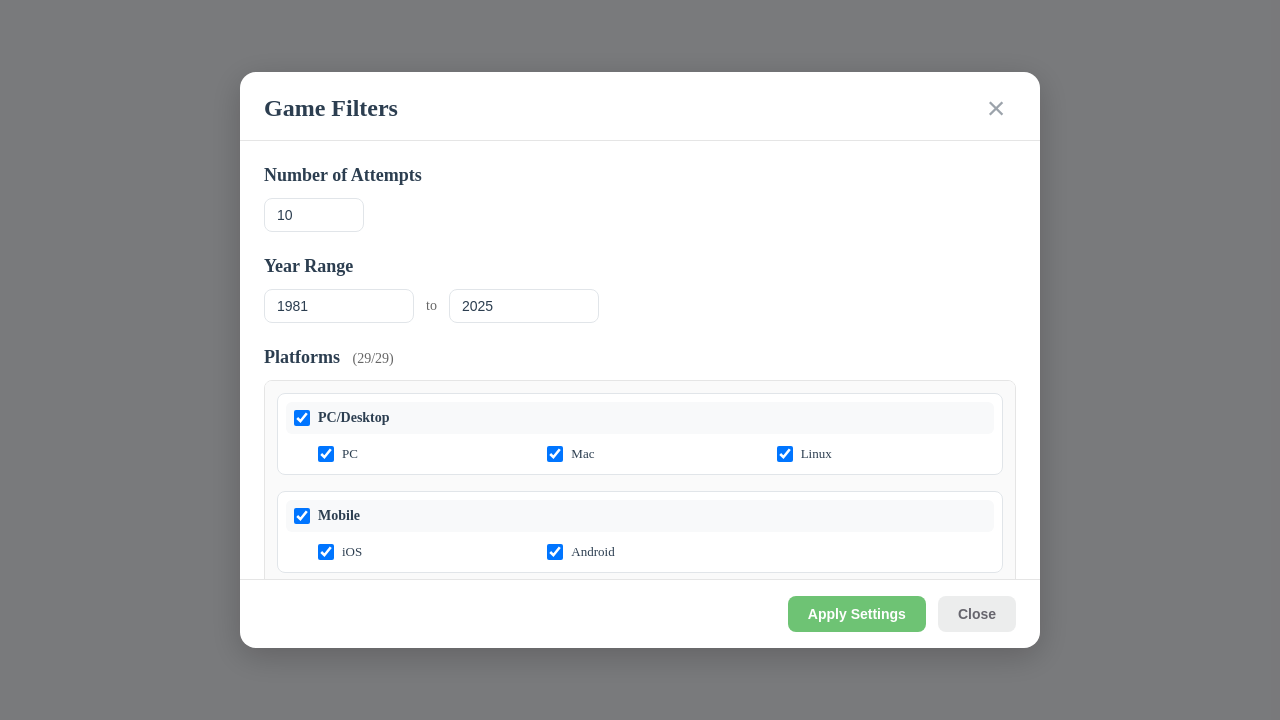
Settings.svelte › year-end blur clamps below start year to start year
The image size is (1280, 720).
Replace the text in the 1st number field with class "year-input" with "2000": coordinates (339, 306) [264,289,414,323]
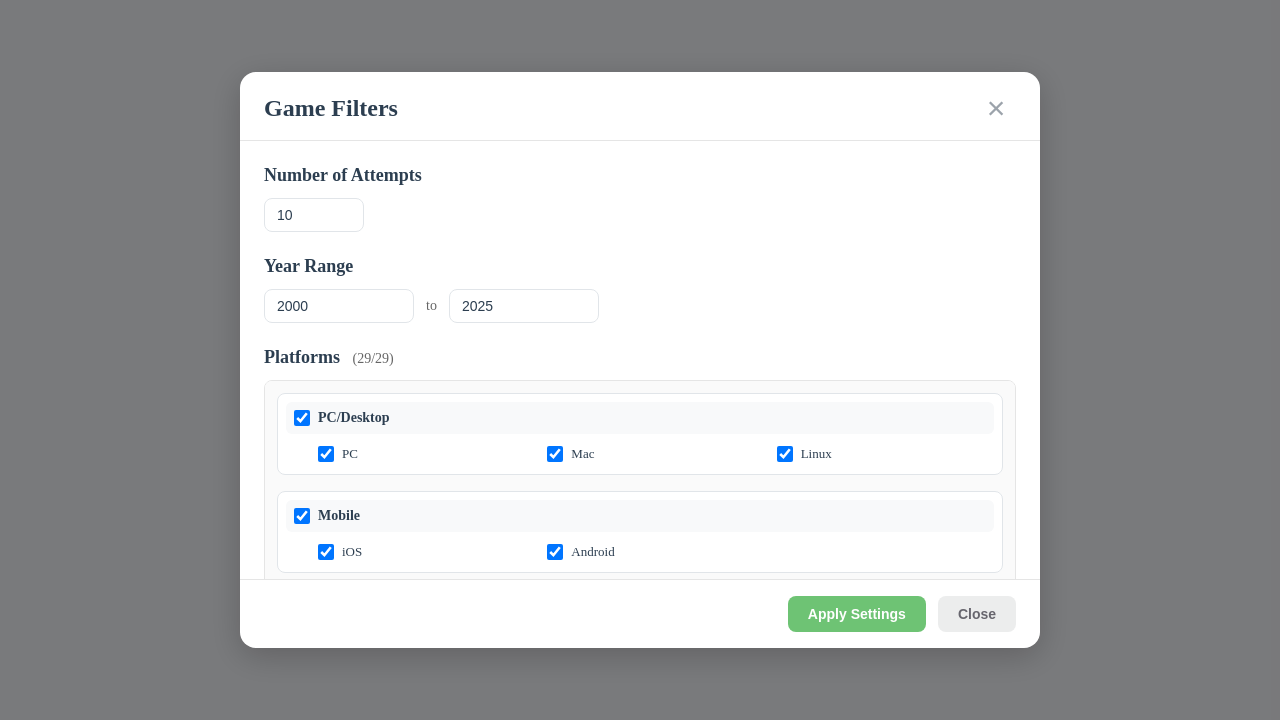
Replace the text in the 2nd number field with class "year-input" with "1990": coordinates (524, 306) [449,289,599,323]
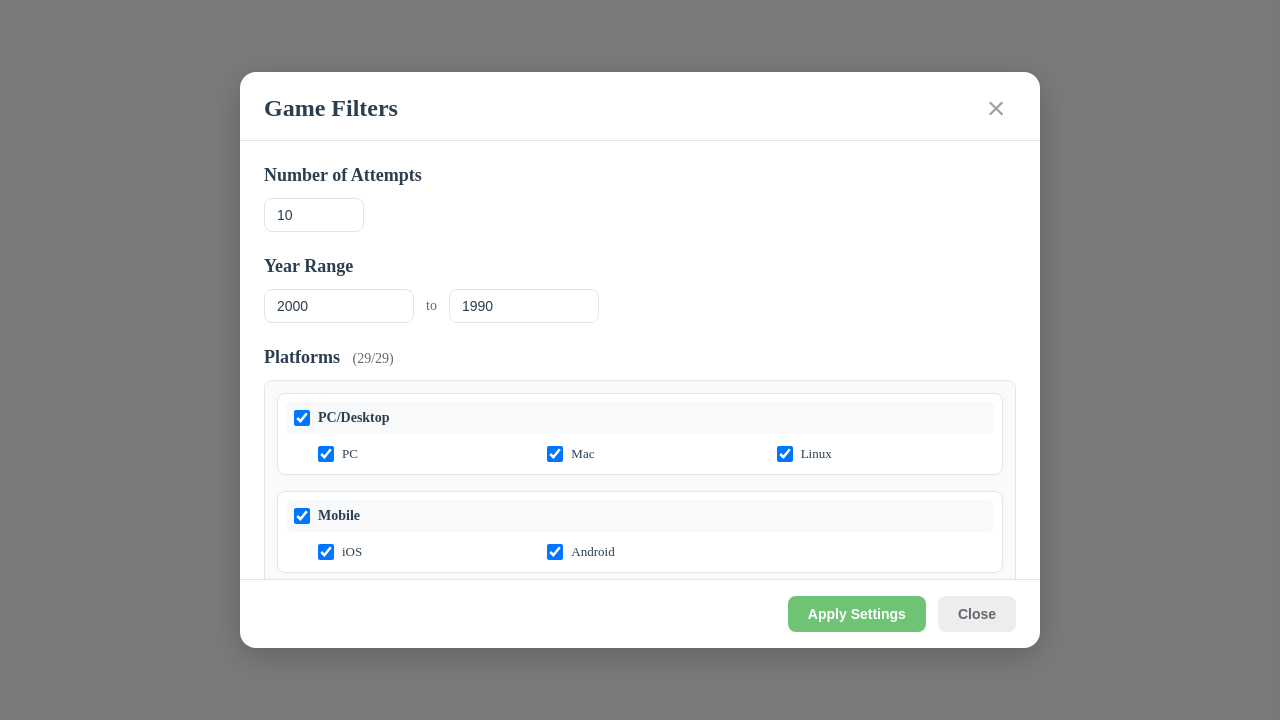
Leave the 2nd number field with class "year-input", box [449,289,599,323]
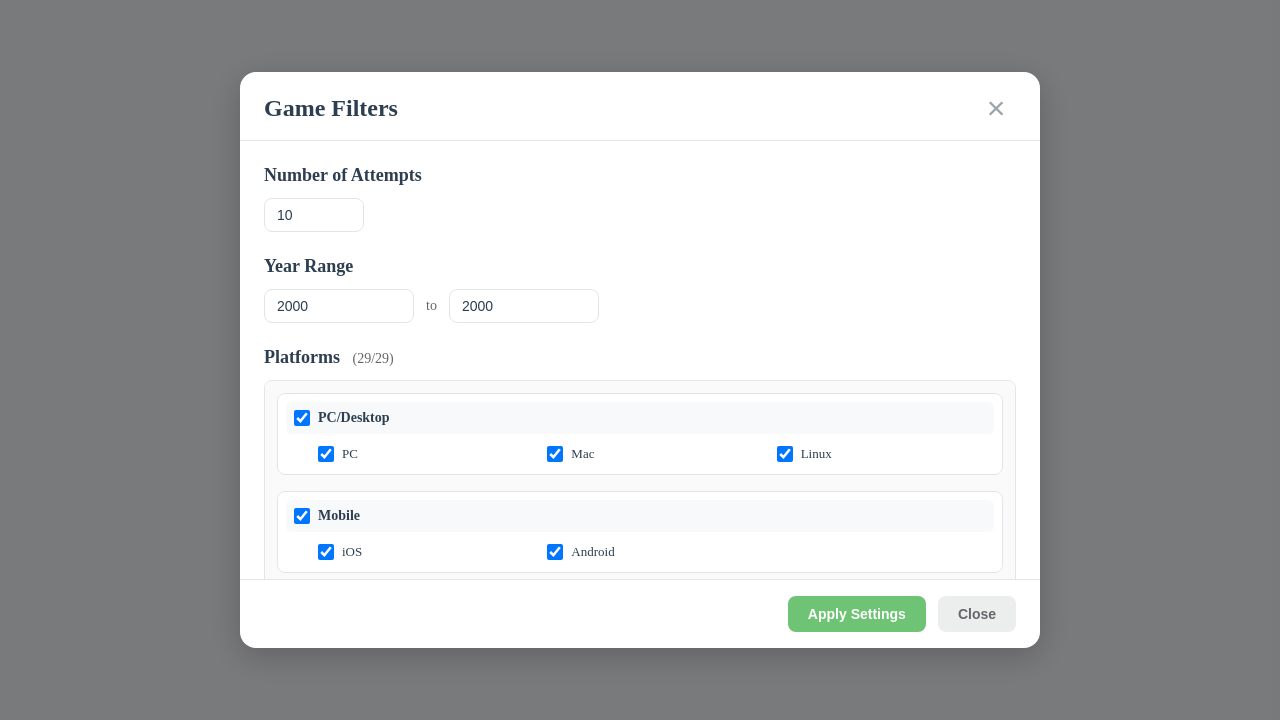
Result: the 3rd number field with class "year-input" holds "2000" at [449,289,599,323]
